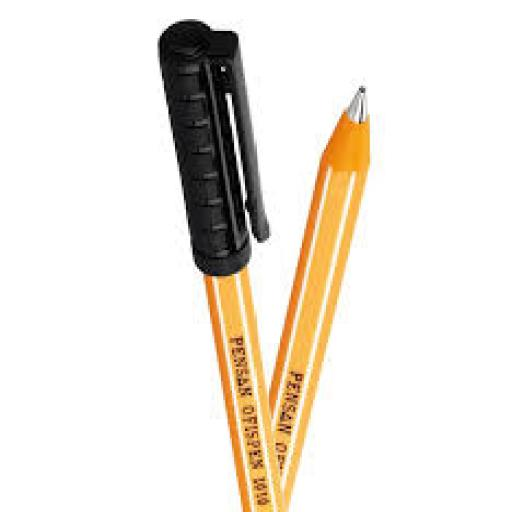tukenmez-kalem: (121, 0, 468, 388)
